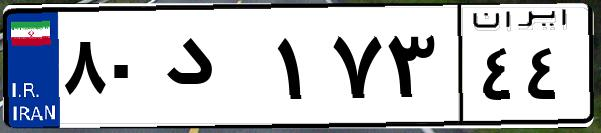0: (110, 28, 158, 98)
1: (270, 28, 330, 110)
3: (385, 28, 445, 110)
4: (475, 38, 525, 113), (525, 38, 570, 115)
7: (330, 28, 385, 110)
8: (57, 26, 110, 100)
د: (158, 20, 270, 120)
